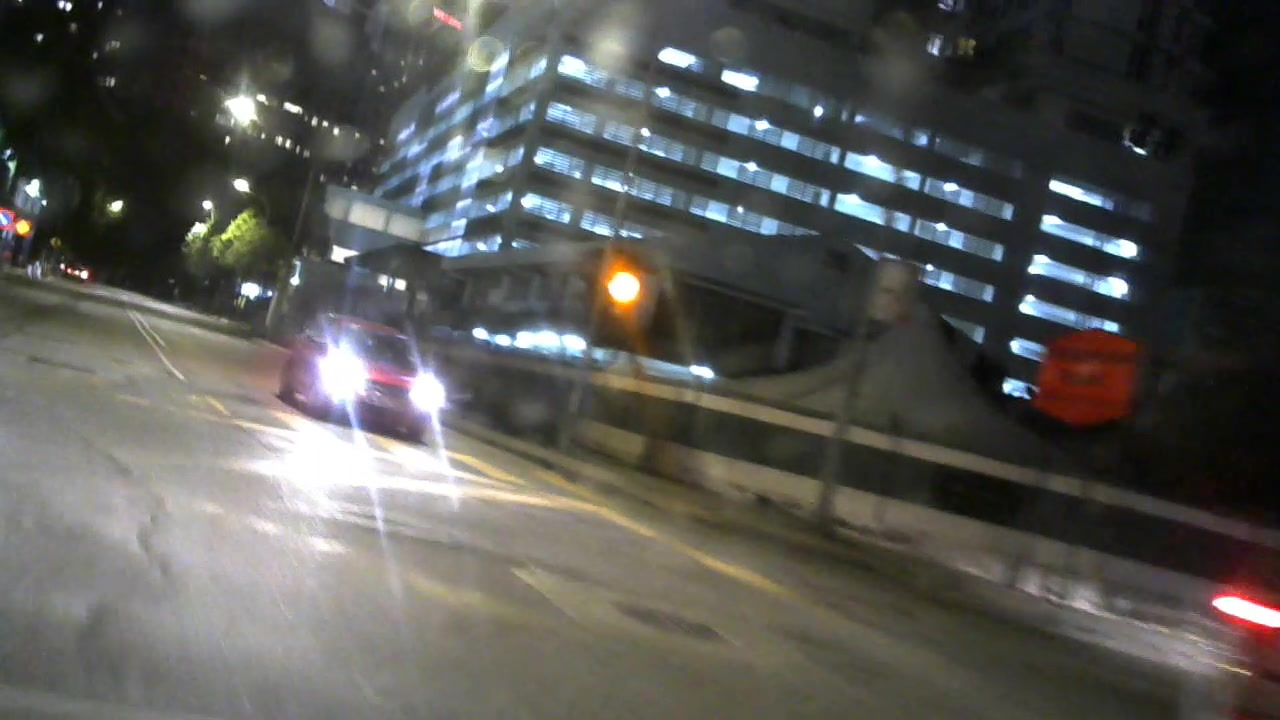cars: (274, 312, 453, 428)
